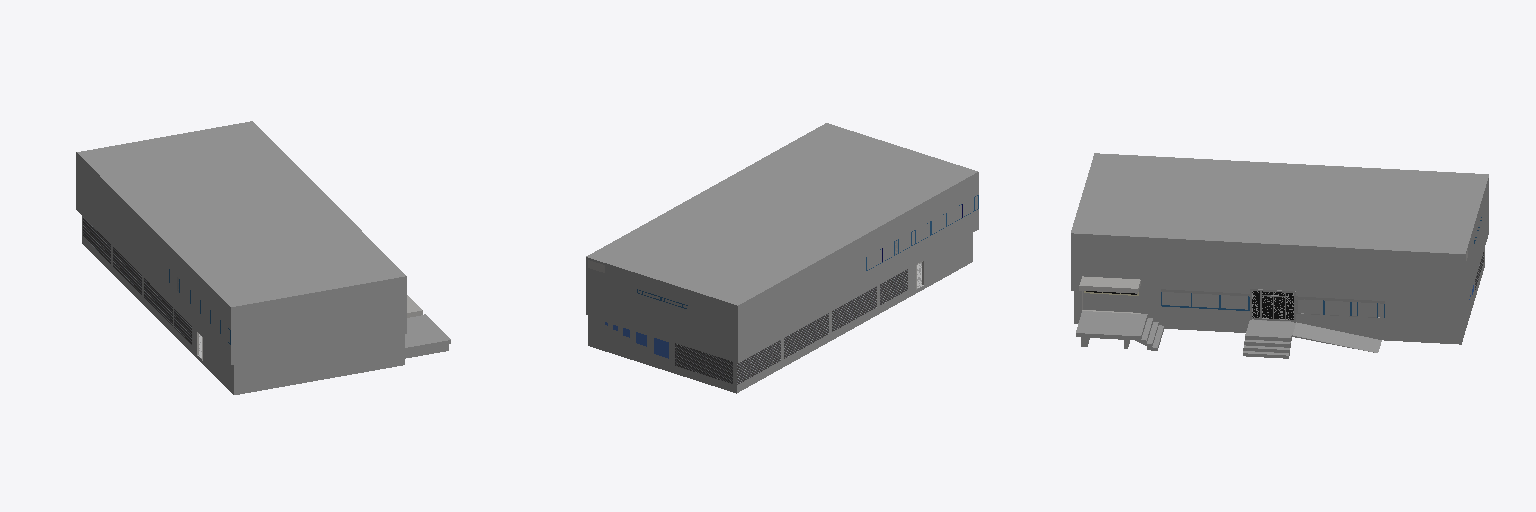
The picture shows the model from 3 angles: view 1: azimuth 30°, elevation 25°; view 2: azimuth 150°, elevation 25°; view 3: azimuth 270°, elevation 25°; orthographic projection.
Parts seen in each view (by area): view 1: SketchUp.099_ID1862, SketchUp.017_ID1489, SketchUp.001_ID1352, SketchUp.015_ID1470, SketchUp.021_ID1524, SketchUp.042_ID1677, SketchUp.039_ID1655; view 2: SketchUp.099_ID1862, SketchUp.017_ID1489, SketchUp.015_ID1470, SketchUp.118_ID2007, SketchUp.042_ID1677, SketchUp.021_ID1524, SketchUp.039_ID1655, SketchUp.111_ID1953; view 3: SketchUp.099_ID1862, SketchUp.017_ID1489, SketchUp.001_ID1352, SketchUp.034_ID1619, SketchUp.009_ID1432, SketchUp.052_ID1747, SketchUp.041_ID1671, SketchUp.003_ID1378.
Boxes of the visible parts, x1=… form: SketchUp.099_ID1862: x1=77, y1=121, x2=405, y2=306; SketchUp.017_ID1489: x1=76, y1=152, x2=406, y2=364; SketchUp.001_ID1352: x1=234, y1=317, x2=450, y2=394; SketchUp.015_ID1470: x1=82, y1=216, x2=233, y2=394; SketchUp.021_ID1524: x1=113, y1=247, x2=141, y2=294; SketchUp.042_ID1677: x1=144, y1=278, x2=172, y2=325; SketchUp.039_ID1655: x1=83, y1=217, x2=110, y2=263; SketchUp.099_ID1862: x1=586, y1=123, x2=977, y2=305; SketchUp.017_ID1489: x1=586, y1=172, x2=978, y2=362; SketchUp.015_ID1470: x1=588, y1=233, x2=972, y2=393; SketchUp.118_ID2007: x1=675, y1=343, x2=732, y2=383; SketchUp.042_ID1677: x1=832, y1=286, x2=876, y2=331; SketchUp.021_ID1524: x1=784, y1=313, x2=828, y2=358; SketchUp.039_ID1655: x1=737, y1=340, x2=780, y2=384; SketchUp.111_ID1953: x1=880, y1=269, x2=907, y2=304; SketchUp.099_ID1862: x1=1071, y1=153, x2=1488, y2=253; SketchUp.017_ID1489: x1=1071, y1=178, x2=1488, y2=311; SketchUp.001_ID1352: x1=1074, y1=291, x2=1461, y2=348; SketchUp.034_ID1619: x1=1246, y1=320, x2=1381, y2=352; SketchUp.009_ID1432: x1=1243, y1=333, x2=1291, y2=358; SketchUp.052_ID1747: x1=1083, y1=286, x2=1140, y2=312; SketchUp.041_ID1671: x1=1079, y1=276, x2=1140, y2=313; SketchUp.003_ID1378: x1=1134, y1=314, x2=1163, y2=350.
Size of the model in its own units: 24.02 by 8.8 by 36.93.
Materials: 32 (1 with a texture image).